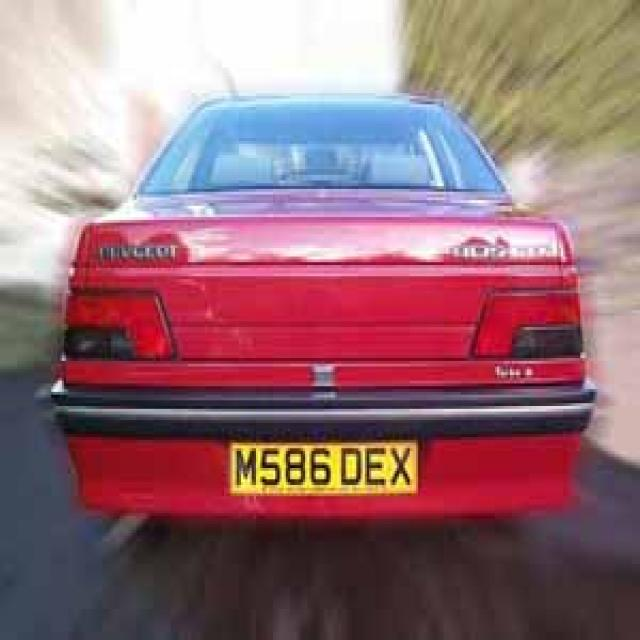Car: (46, 89, 598, 528)
